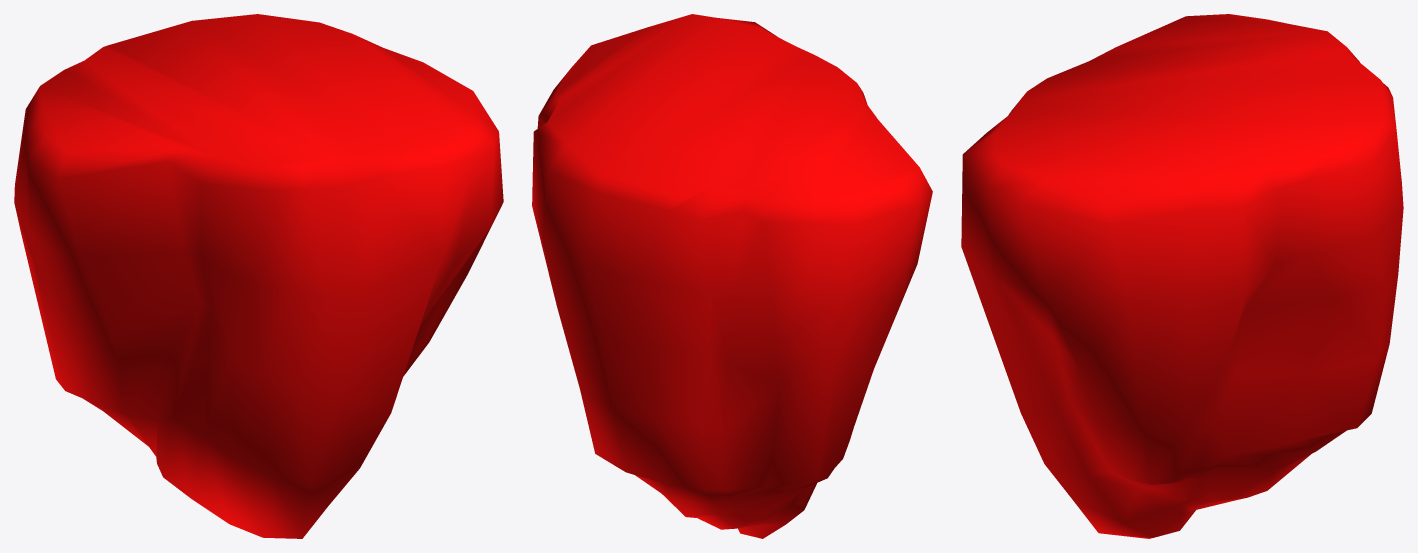
The model's file is IslandChunk_LP.fbx.
3 renders of one model, left to right at view 1: azimuth 30°, elevation 25°; view 2: azimuth 150°, elevation 25°; view 3: azimuth 270°, elevation 25°, orthographic. The views are drawn at different scales.
Visible parts, largest first — view 1: BSurfaceMesh; view 2: BSurfaceMesh; view 3: BSurfaceMesh.
Part boxes in pixels (<box>): BSurfaceMesh: <box>14,14,503,538</box>; BSurfaceMesh: <box>532,14,932,538</box>; BSurfaceMesh: <box>961,14,1403,538</box>.
Bounding box in the file's own units: 470 × 487 × 436.
